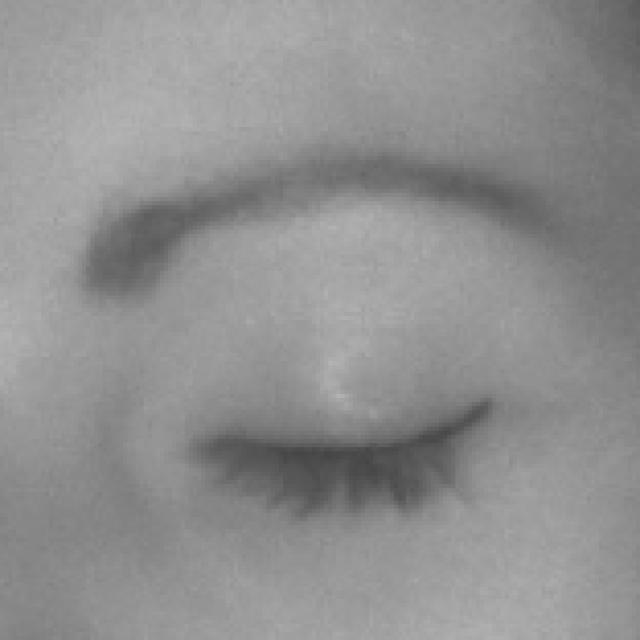Eyeclosed: (196, 313, 488, 590)
